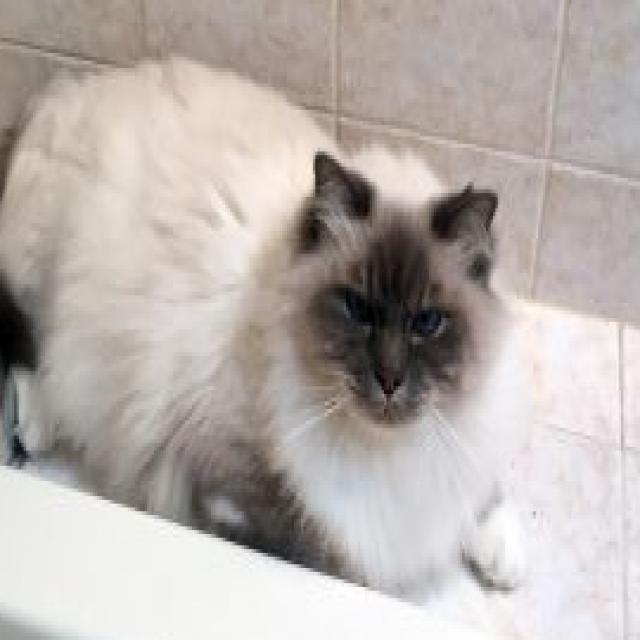Birman: (0, 46, 531, 602)
